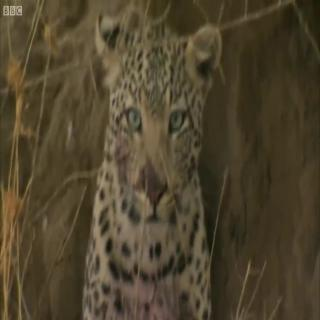Leopard: (65, 10, 244, 320)
